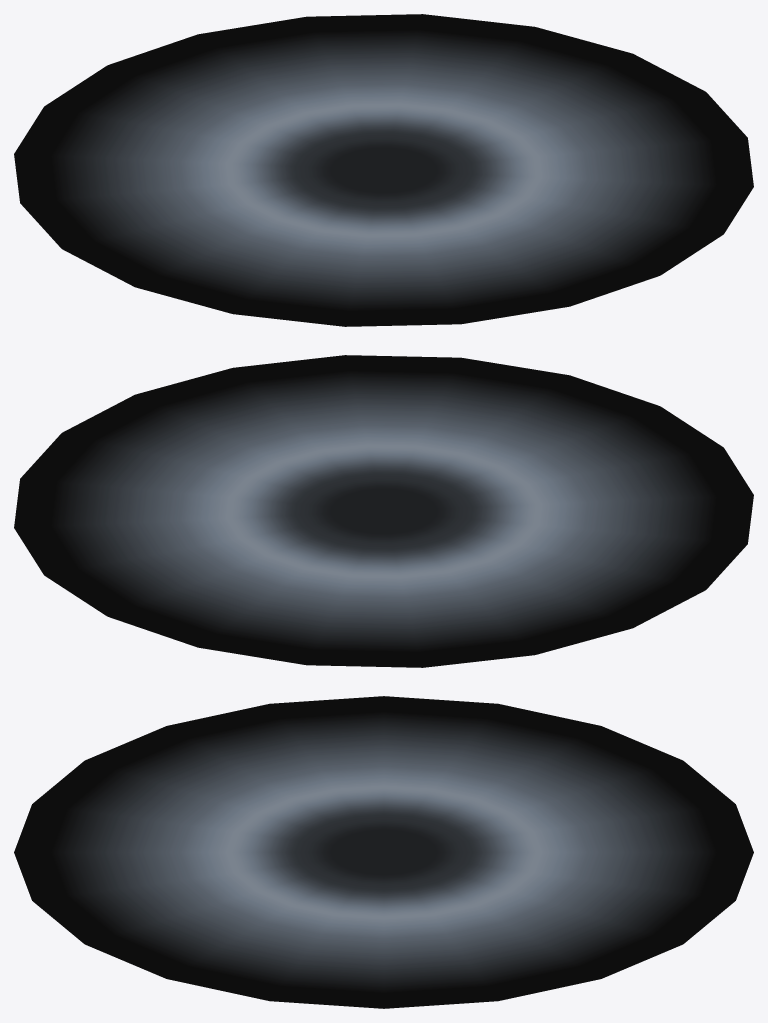
Rendered from Shadows.fbx.
3 renders of one model, top to bottom at view 1: azimuth 30°, elevation 25°; view 2: azimuth 150°, elevation 25°; view 3: azimuth 270°, elevation 25°, orthographic.
Parts seen in each view (by area): view 1: pCylinder1; view 2: pCylinder1; view 3: pCylinder1.
Part boxes in pixels (left/top/right/bottom): pCylinder1: left=14, top=14, right=753, bottom=326; pCylinder1: left=14, top=355, right=753, bottom=667; pCylinder1: left=14, top=696, right=753, bottom=1008.
Bounding box in the file's own units: 23.99 × 0.00168 × 23.99.
